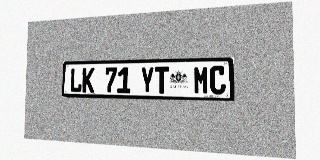1: (117, 67, 131, 93)
7: (104, 67, 117, 93)
C: (209, 65, 226, 95)
K: (82, 68, 95, 93)
L: (70, 68, 82, 92)
M: (193, 66, 209, 94)
T: (155, 66, 169, 94)
Y: (140, 67, 154, 94)
